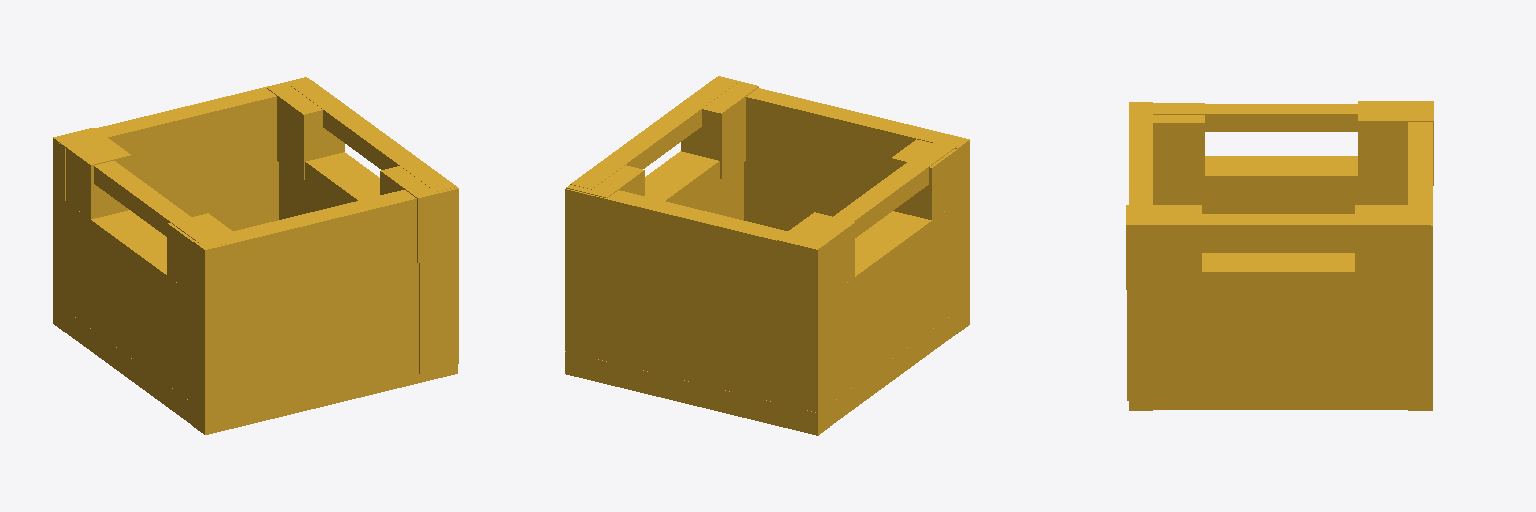
The model's file is basket.obj.
3 renders of one model, left to right at view 1: azimuth 30°, elevation 25°; view 2: azimuth 150°, elevation 25°; view 3: azimuth 270°, elevation 25°, orthographic.
Visible parts, largest first — view 1: mesh_id46, mesh_id52, mesh_id39, mesh_id58, mesh_id64, mesh_id88, mesh_id82, mesh_id94, mesh_id70, mesh_id33, mesh_id76; view 2: mesh_id39, mesh_id46, mesh_id52, mesh_id33, mesh_id82, mesh_id58, mesh_id64, mesh_id94, mesh_id70, mesh_id76, mesh_id88; view 3: mesh_id58, mesh_id52, mesh_id64, mesh_id33, mesh_id39, mesh_id46, mesh_id70, mesh_id82, mesh_id76, mesh_id88, mesh_id94.
Boxes of the visible parts, x1=… form: mesh_id46: x1=193, y1=190, x2=457, y2=434; mesh_id52: x1=65, y1=201, x2=245, y2=431; mesh_id39: x1=53, y1=77, x2=304, y2=331; mesh_id58: x1=279, y1=152, x2=458, y2=373; mesh_id64: x1=290, y1=80, x2=456, y2=191; mesh_id88: x1=266, y1=77, x2=344, y2=179; mesh_id82: x1=53, y1=128, x2=131, y2=219; mesh_id94: x1=380, y1=166, x2=458, y2=263; mesh_id70: x1=94, y1=161, x2=225, y2=247; mesh_id33: x1=53, y1=301, x2=203, y2=433; mesh_id76: x1=167, y1=213, x2=232, y2=293; mesh_id39: x1=565, y1=189, x2=829, y2=435; mesh_id46: x1=744, y1=88, x2=969, y2=333; mesh_id52: x1=830, y1=202, x2=957, y2=403; mesh_id33: x1=565, y1=303, x2=968, y2=434; mesh_id82: x1=777, y1=212, x2=854, y2=314; mesh_id58: x1=645, y1=151, x2=743, y2=220; mesh_id64: x1=570, y1=77, x2=737, y2=189; mesh_id94: x1=681, y1=76, x2=758, y2=178; mesh_id70: x1=833, y1=135, x2=964, y2=237; mesh_id76: x1=891, y1=139, x2=957, y2=219; mesh_id88: x1=566, y1=165, x2=644, y2=197; mesh_id58: x1=1127, y1=253, x2=1418, y2=400; mesh_id52: x1=1153, y1=156, x2=1407, y2=252; mesh_id64: x1=1130, y1=214, x2=1422, y2=241; mesh_id33: x1=1130, y1=388, x2=1432, y2=409; mesh_id39: x1=1408, y1=122, x2=1432, y2=410; mesh_id46: x1=1129, y1=102, x2=1152, y2=410; mesh_id70: x1=1132, y1=104, x2=1357, y2=131; mesh_id82: x1=1358, y1=101, x2=1433, y2=185; mesh_id76: x1=1153, y1=103, x2=1204, y2=175; mesh_id88: x1=1355, y1=205, x2=1430, y2=271; mesh_id94: x1=1126, y1=205, x2=1201, y2=289.
Size of the model in its own units: 0.2303 by 0.1622 by 0.2423.